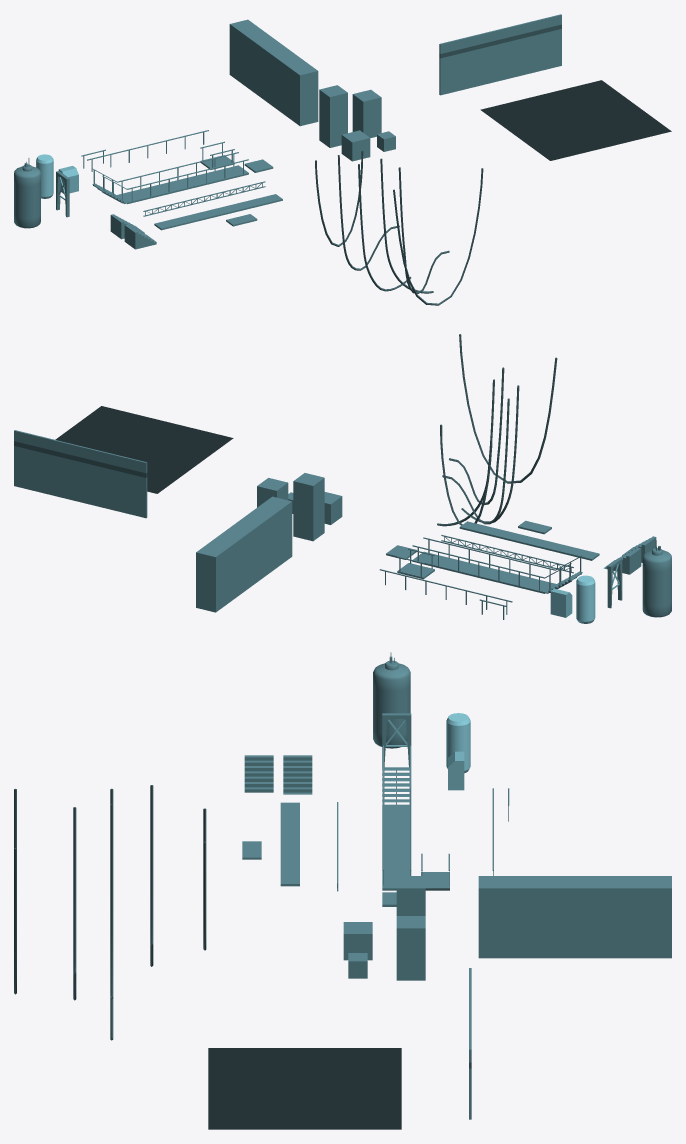
The model's file is Structures.FBX.
3 renders of one model, top to bottom at view 1: azimuth 30°, elevation 25°; view 2: azimuth 150°, elevation 25°; view 3: azimuth 270°, elevation 25°, orthographic. The views are drawn at different scales.
Visible parts, largest first — view 1: Floor_10x10, WallBox_10x0.125x4, Box_10x1x4, Gangway_10x1.5x0.125, Cylinder01_large, Box_1.5x1.5x4, Box_1.5x1.5x3, Box_10x1x0.125, Box_1.5x1.5x1.5, Cable06, Cylinder_1.25x1.25x3, Truss_10 (+6 smaller); view 2: WallBox_10x0.125x4, Box_10x1x4, Floor_10x10, Gangway_10x1.5x0.125, Box_1.5x1.5x4, Cylinder01_large, Box_10x1x0.125, Cylinder_1.25x1.25x3, Cable06, Truss_10, Box_1.5x1.5x3, Console01_1.25x0.75x1.5 (+8 smaller); view 3: Box_10x1x4, Floor_10x10, Cylinder01_large, Gangway_10x1.5x0.125, Box_1.5x1.5x3, Box_10x1x0.125, StraightStairBox_2x1.5_1.5, Box_1.5x1.5x4, StraightStair004, Cylinder_1.25x1.25x3, Box_1.5x1.5x1.5, StraightStairOpen_2x1.5_1.5 (+4 smaller).
Boxes of the visible parts, box(x1,y1,x2,y2) form: Floor_10x10: box(480, 80, 671, 160); WallBox_10x0.125x4: box(439, 14, 561, 95); Box_10x1x4: box(229, 19, 318, 126); Gangway_10x1.5x0.125: box(117, 152, 248, 204); Cylinder01_large: box(14, 158, 40, 228); Box_1.5x1.5x4: box(319, 85, 347, 147); Box_1.5x1.5x3: box(352, 89, 381, 137); Box_10x1x0.125: box(154, 194, 282, 230); Box_1.5x1.5x1.5: box(341, 130, 370, 161); Cable06: box(393, 168, 483, 305); Cylinder_1.25x1.25x3: box(36, 154, 53, 198); Truss_10: box(143, 181, 265, 216); WallBox_10x0.125x4: box(14, 430, 147, 518); Box_10x1x4: box(196, 496, 292, 612); Floor_10x10: box(55, 406, 233, 493); Gangway_10x1.5x0.125: box(412, 537, 555, 593); Box_1.5x1.5x4: box(293, 473, 324, 541); Cylinder01_large: box(642, 540, 671, 617); Box_10x1x0.125: box(459, 521, 599, 560); Cylinder_1.25x1.25x3: box(576, 575, 595, 623); Cable06: box(459, 334, 557, 483); Truss_10: box(441, 535, 573, 573); Box_1.5x1.5x3: box(257, 478, 288, 507); Console01_1.25x0.75x1.5: box(550, 588, 572, 617); Box_10x1x4: box(478, 876, 671, 958); Floor_10x10: box(208, 1048, 401, 1129); Cylinder01_large: box(373, 652, 410, 748); Gangway_10x1.5x0.125: box(382, 788, 411, 890); Box_1.5x1.5x3: box(396, 916, 425, 980); Box_10x1x0.125: box(280, 802, 299, 886); StraightStairBox_2x1.5_1.5: box(283, 755, 312, 794); Box_1.5x1.5x4: box(396, 876, 425, 915); StraightStair004: box(244, 755, 273, 792); Cylinder_1.25x1.25x3: box(446, 713, 470, 773); Box_1.5x1.5x1.5: box(343, 922, 372, 960); StraightStairOpen_2x1.5_1.5: box(382, 745, 411, 806).
Size of the model in its own units: 4847 by 1153 by 3406.
